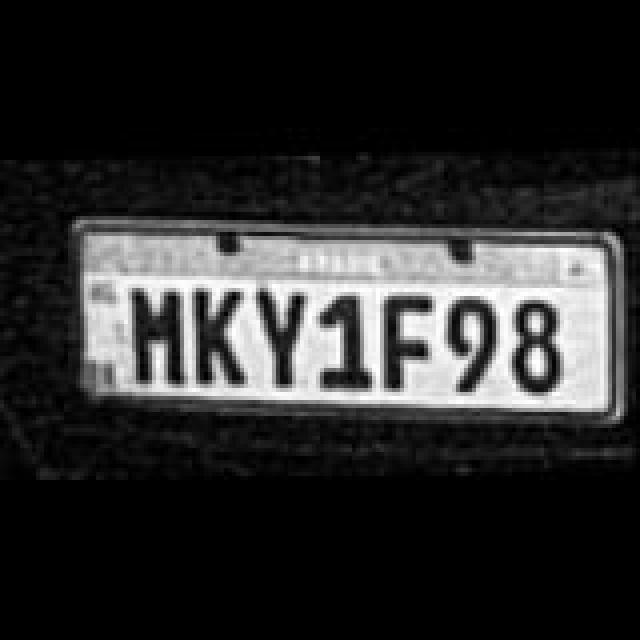1: (320, 296, 372, 392)
8: (512, 302, 564, 398)
9: (448, 298, 500, 394)
F: (384, 298, 436, 398)
K: (194, 288, 250, 388)
M: (134, 288, 190, 388)
Y: (258, 290, 306, 390)
